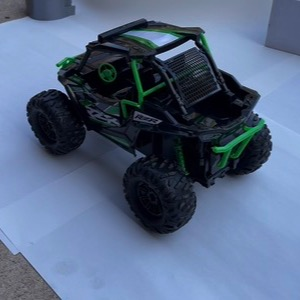polaris: (26, 18, 274, 236)
